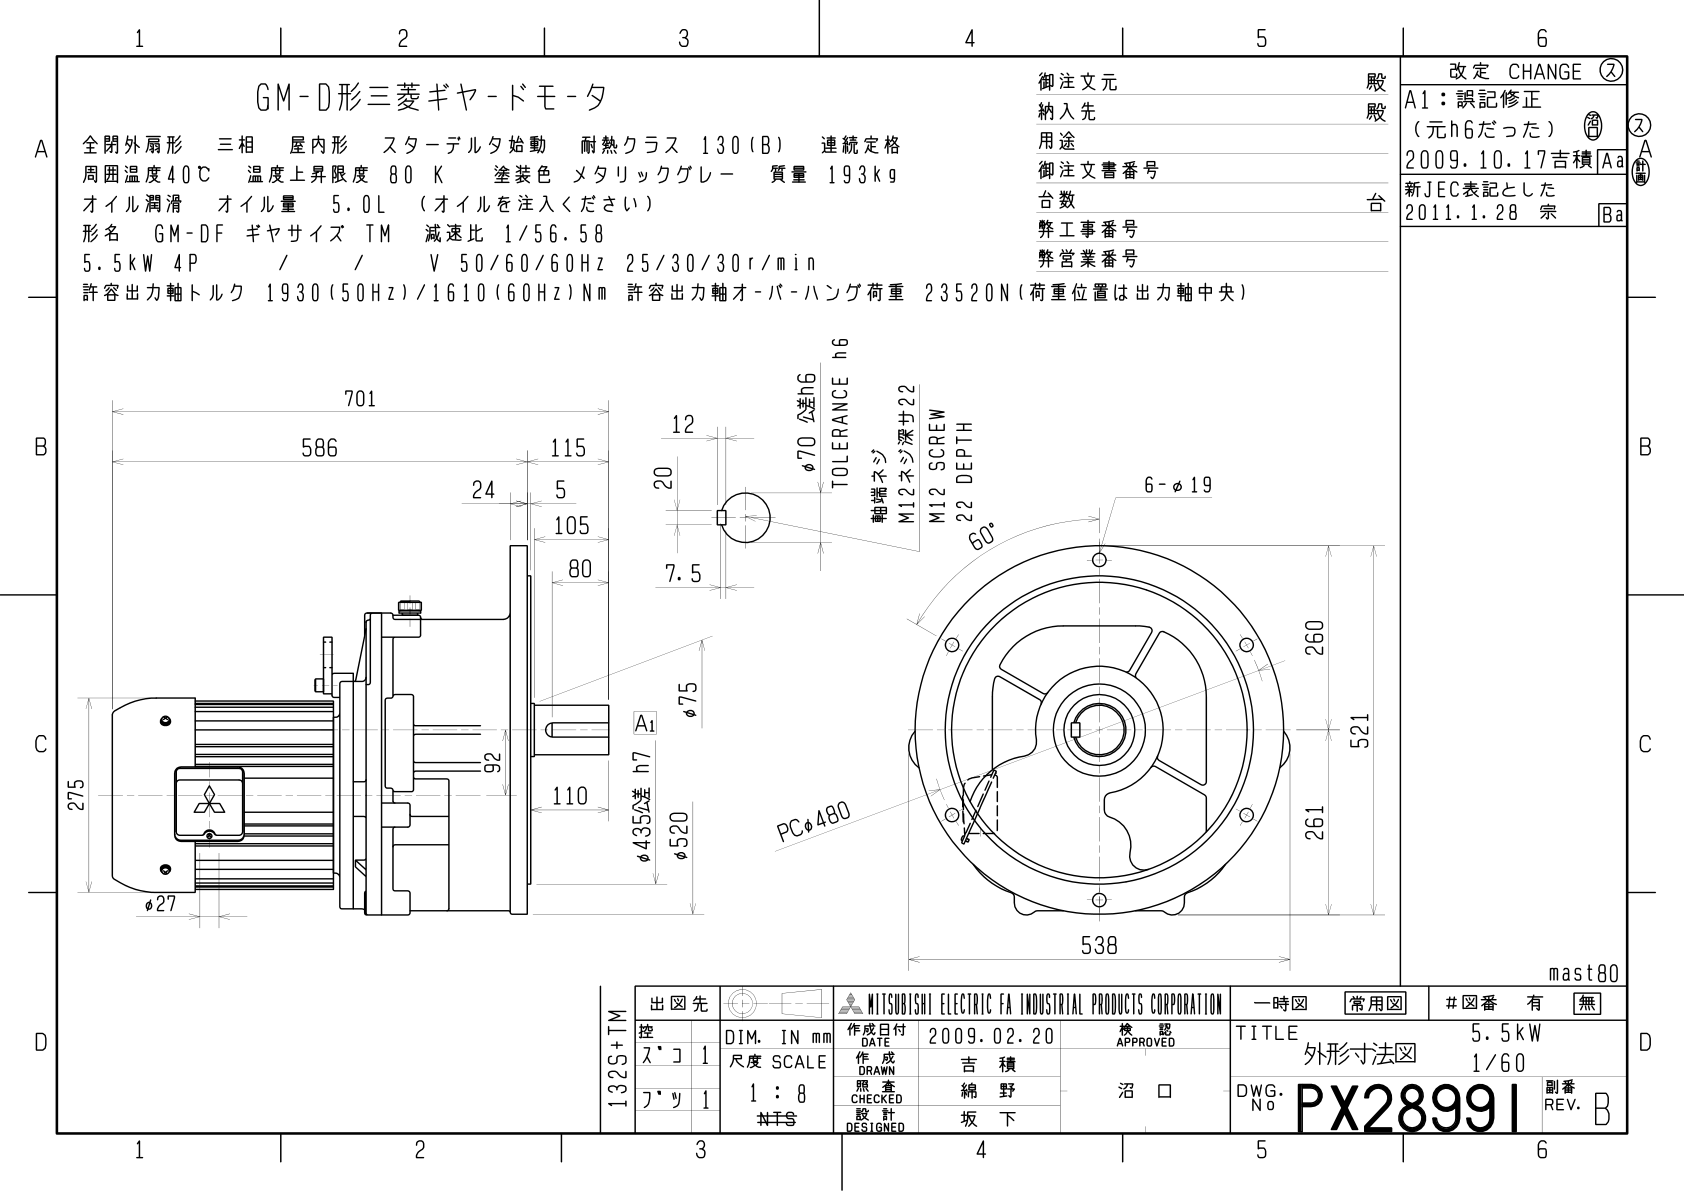GM_D_屋内＿三相_フランジ: (1, 1, 1674, 1188)
